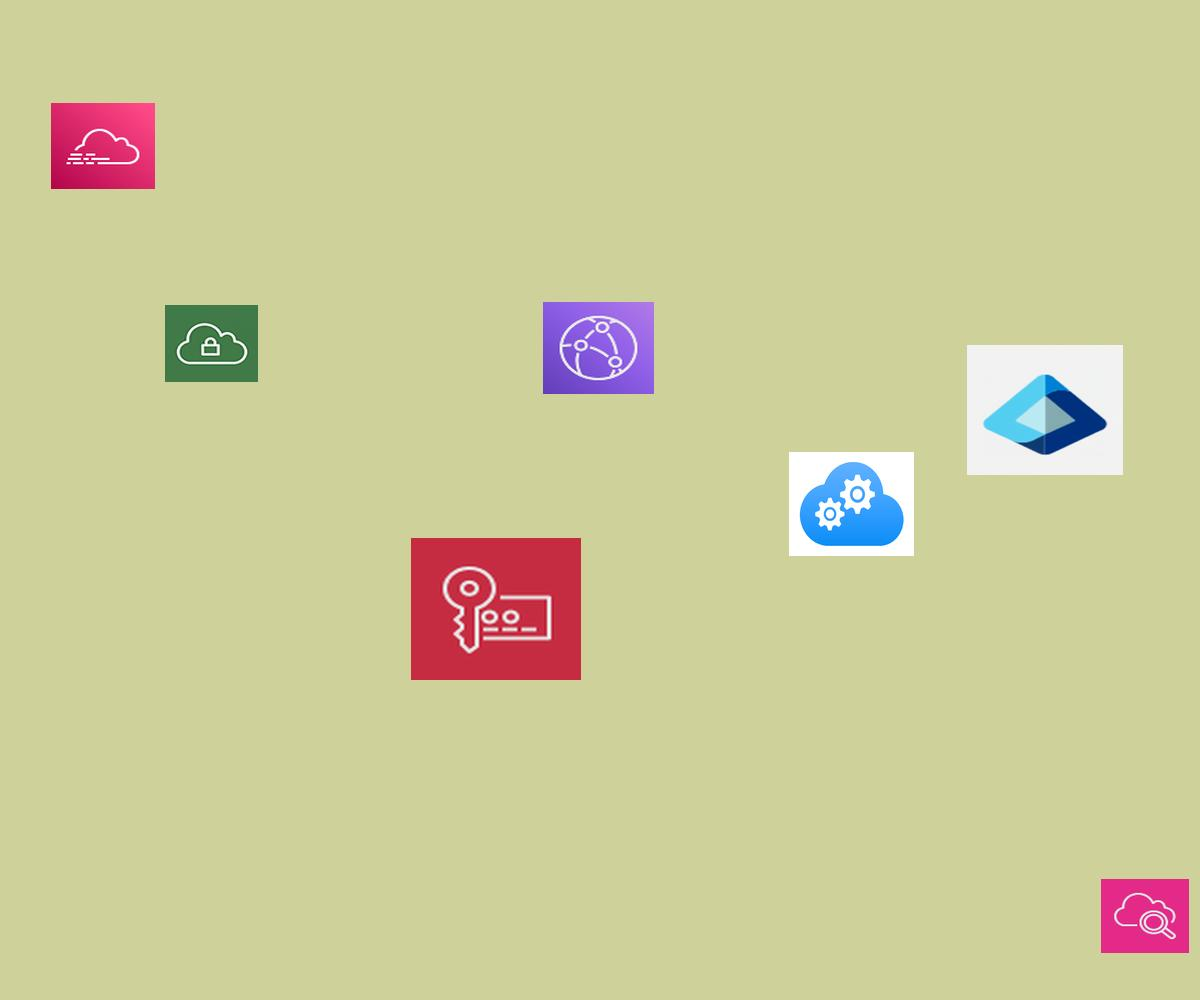AWS-CloudFront: (543, 302, 654, 394)
AWS-CloudTrail: (51, 103, 155, 189)
AWS-CloudWatch: (1101, 879, 1189, 953)
AWS-Key-Management-Service: (411, 538, 581, 680)
AWS-Private_vpc: (165, 305, 258, 382)
Azure_cloud_services: (789, 452, 914, 556)
Azure_microsoft_entra: (967, 345, 1123, 475)
